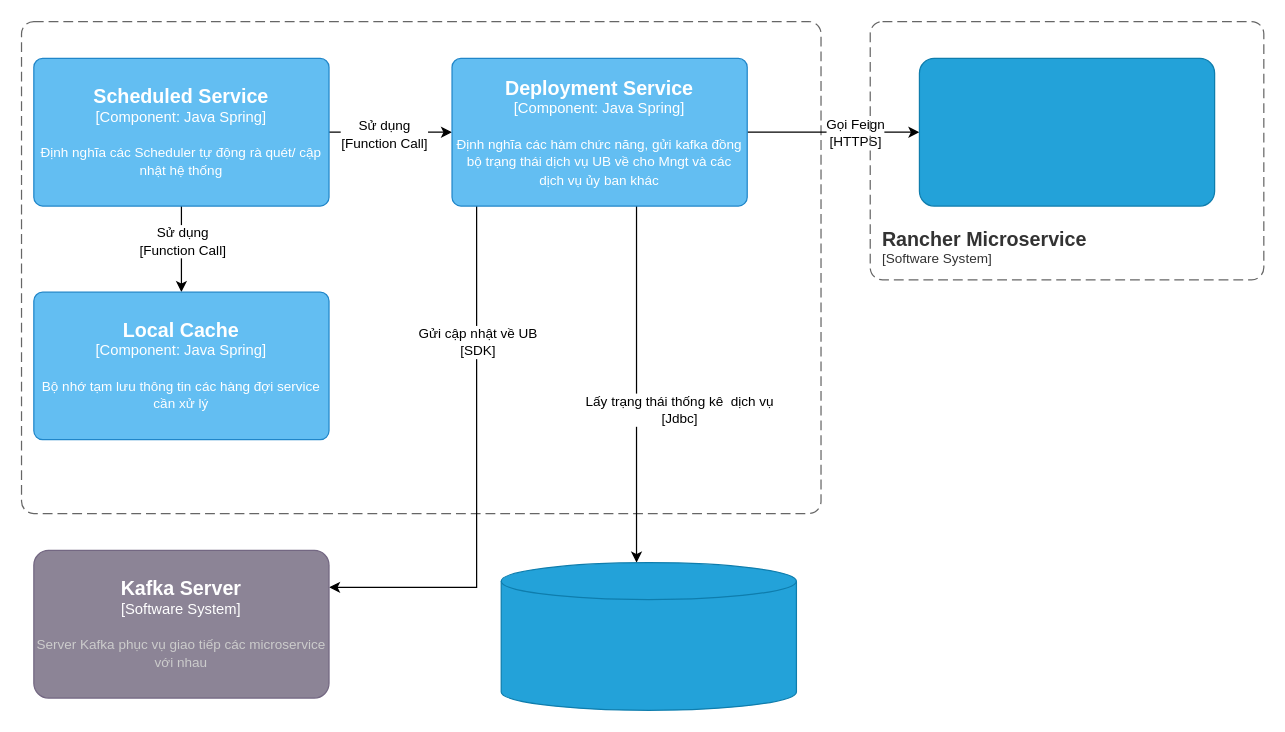
Some shapes in this 1285 by 732 pixel diagram are drawn without their labels. Each missing label, with the box of its shape:
API Application [Container: SpringBoot] Cung cấp API để web application gọi đến: (918, 57, 1215, 206)
API Application [Container]: (20, 20, 821, 514)
Database [Container: MySQL] MySQL Database Schema: (500, 561, 796, 710)
